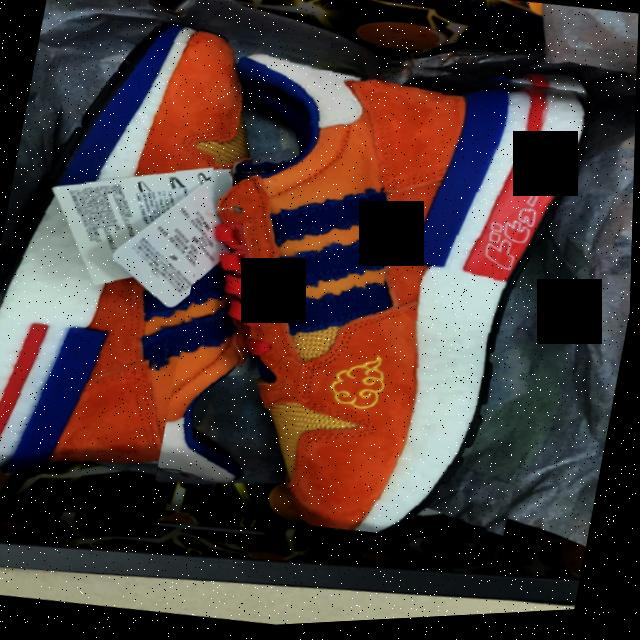shoe: (152, 27, 601, 568), (0, 0, 333, 532)
